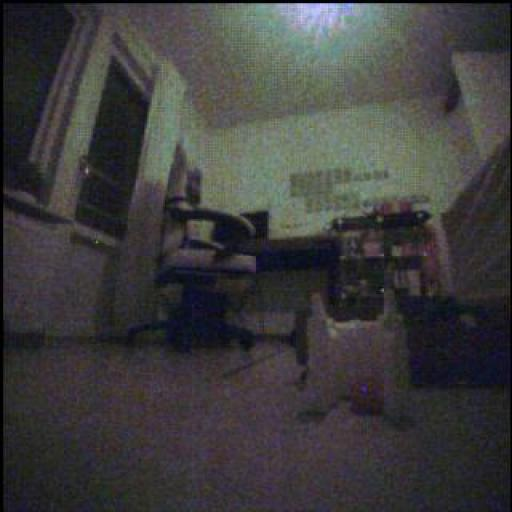basket: (347, 374, 385, 418)
